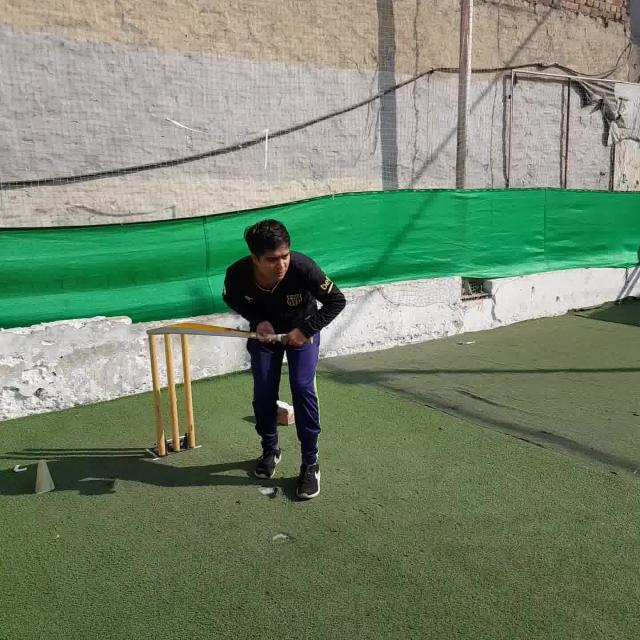bat: (145, 319, 314, 344)
